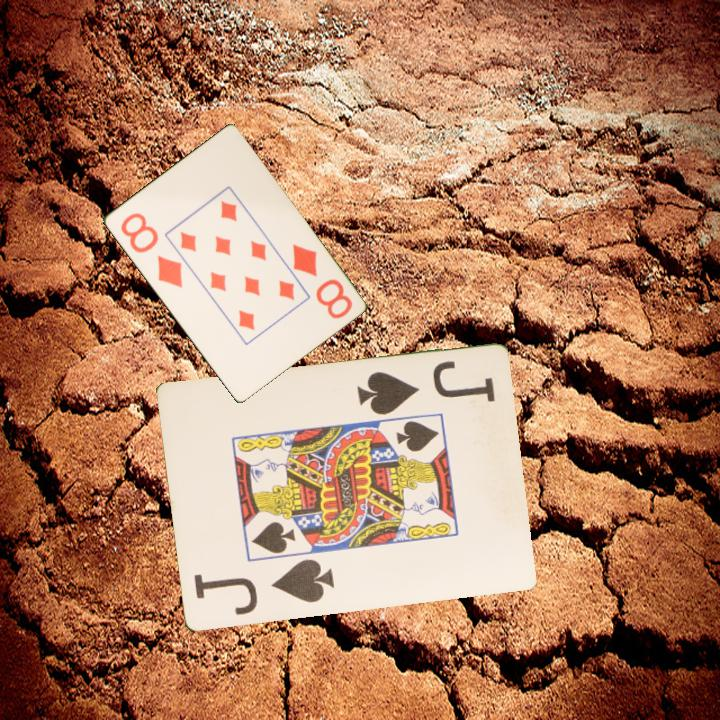8d: (116, 209, 185, 291), (288, 240, 355, 322)
Js: (190, 555, 337, 619), (353, 357, 498, 419)
